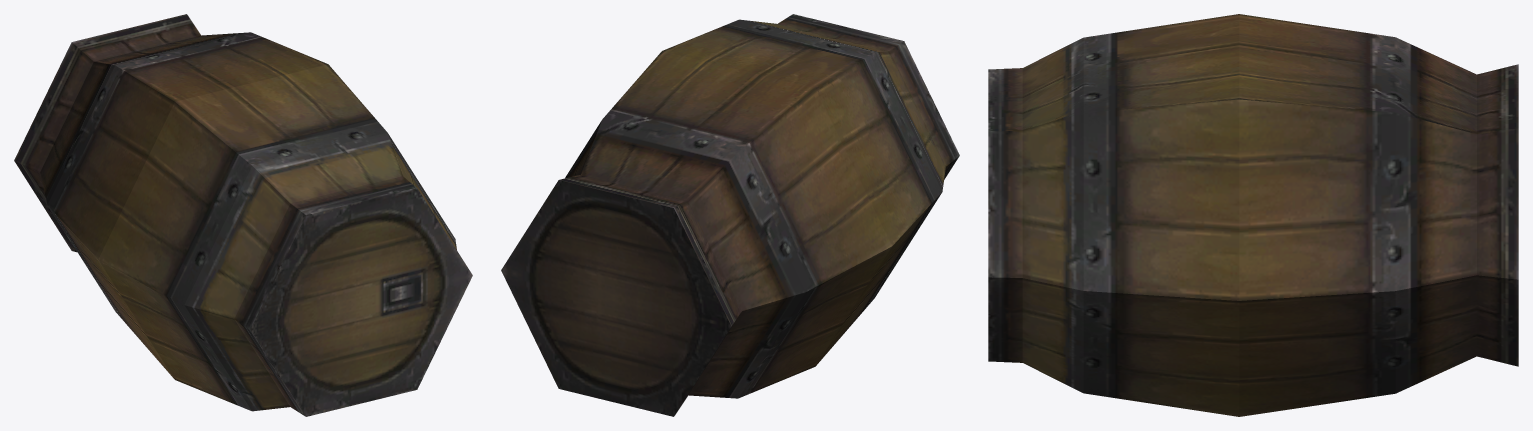
The model's file is mojianmutong01.obj.
3 views of the same model, side by side, from view 1: azimuth 30°, elevation 25°; view 2: azimuth 150°, elevation 25°; view 3: azimuth 270°, elevation 25° (orthographic). The views are drawn at different scales.
Parts seen in each view (by area): view 1: mojianmutong01; view 2: mojianmutong01; view 3: mojianmutong01.
Part boxes in pixels (x1,y1,x2,y2): mojianmutong01: (14,14,472,416); mojianmutong01: (501,14,959,416); mojianmutong01: (988,14,1518,416).
Size of the model in its own units: 47.93 by 41.51 by 62.84.
1 material, 1 textured.
